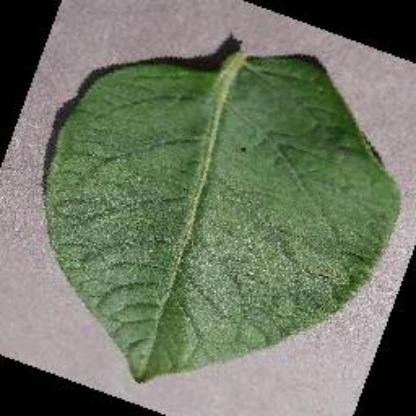Healthy-plant: (39, 35, 403, 385)
